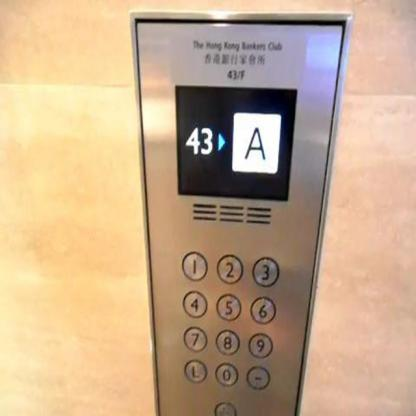-: (245, 363, 270, 391)
0: (214, 360, 239, 387)
1: (181, 248, 208, 282)
2: (214, 251, 244, 285)
3: (251, 255, 279, 288)
4: (181, 288, 208, 319)
5: (214, 291, 242, 322)
6: (249, 294, 276, 325)
7: (181, 322, 208, 353)
8: (214, 327, 240, 356)
9: (247, 328, 274, 360)
L: (182, 357, 208, 384)
led: (172, 80, 298, 204)
